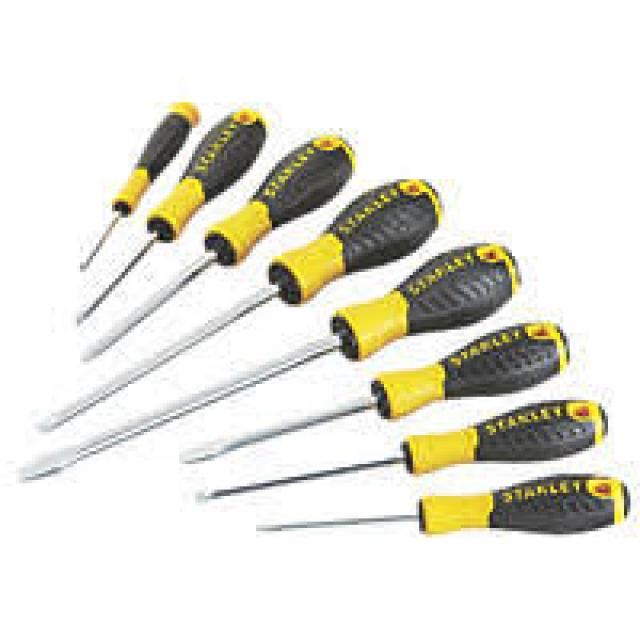screw driver: (220, 470, 640, 556), (58, 92, 221, 288)
